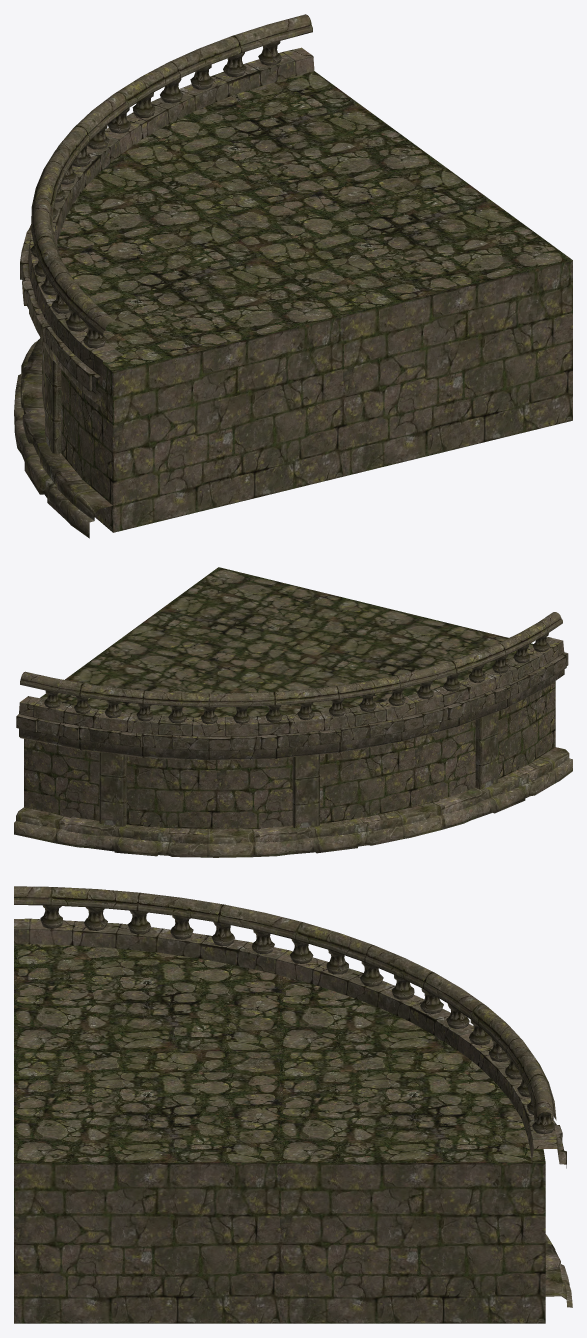
The model's file is Base_Rounded_Preset_05_c-transformed.glb.
3 views of the same model, one above another, from view 1: azimuth 30°, elevation 25°; view 2: azimuth 150°, elevation 25°; view 3: azimuth 270°, elevation 25° (orthographic). The views are drawn at different scales.
Parts seen in each view (by area): view 1: default; view 2: default; view 3: default.
Part boxes in pixels (left/top/right/bottom): default: left=14, top=14, right=572, bottom=538; default: left=14, top=567, right=572, bottom=857; default: left=14, top=886, right=572, bottom=1323.
Bounding box in the file's own units: 12.62 × 5.27 × 12.62.
4 materials, 4 textured.
